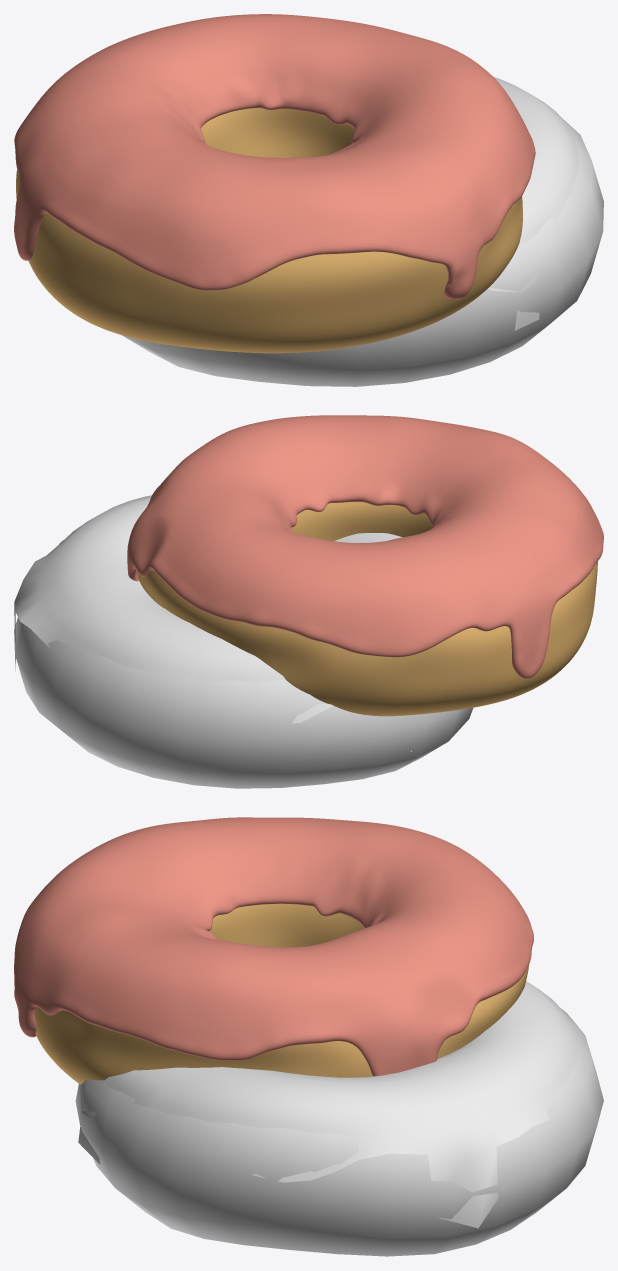
File: kakashka.glb
3 renders of one model, top to bottom at view 1: azimuth 30°, elevation 25°; view 2: azimuth 150°, elevation 25°; view 3: azimuth 270°, elevation 25°, orthographic. The views are drawn at different scales.
Parts seen in each view (by area): view 1: Глазурь, Пончик, Пончик.001, Глазурь.001; view 2: Глазурь, Пончик.001, Пончик, Глазурь.001; view 3: Глазурь, Пончик.001, Глазурь.001, Пончик.
Part boxes in pixels (x1=…): Глазурь: x1=14, y1=14, x2=535, y2=299; Пончик: x1=16, y1=108, x2=522, y2=353; Пончик.001: x1=122, y1=118, x2=603, y2=386; Глазурь.001: x1=488, y1=77, x2=578, y2=330; Глазурь: x1=127, y1=415, x2=603, y2=678; Пончик.001: x1=14, y1=539, x2=473, y2=788; Пончик: x1=137, y1=502, x2=597, y2=716; Глазурь.001: x1=14, y1=495, x2=411, y2=751; Глазурь: x1=14, y1=817, x2=533, y2=1076; Пончик.001: x1=75, y1=1008, x2=603, y2=1256; Глазурь.001: x1=78, y1=981, x2=579, y2=1228; Пончик: x1=34, y1=903, x2=528, y2=1084.
Bounding box in the file's own units: 0.1816 × 0.0851 × 0.1728.
